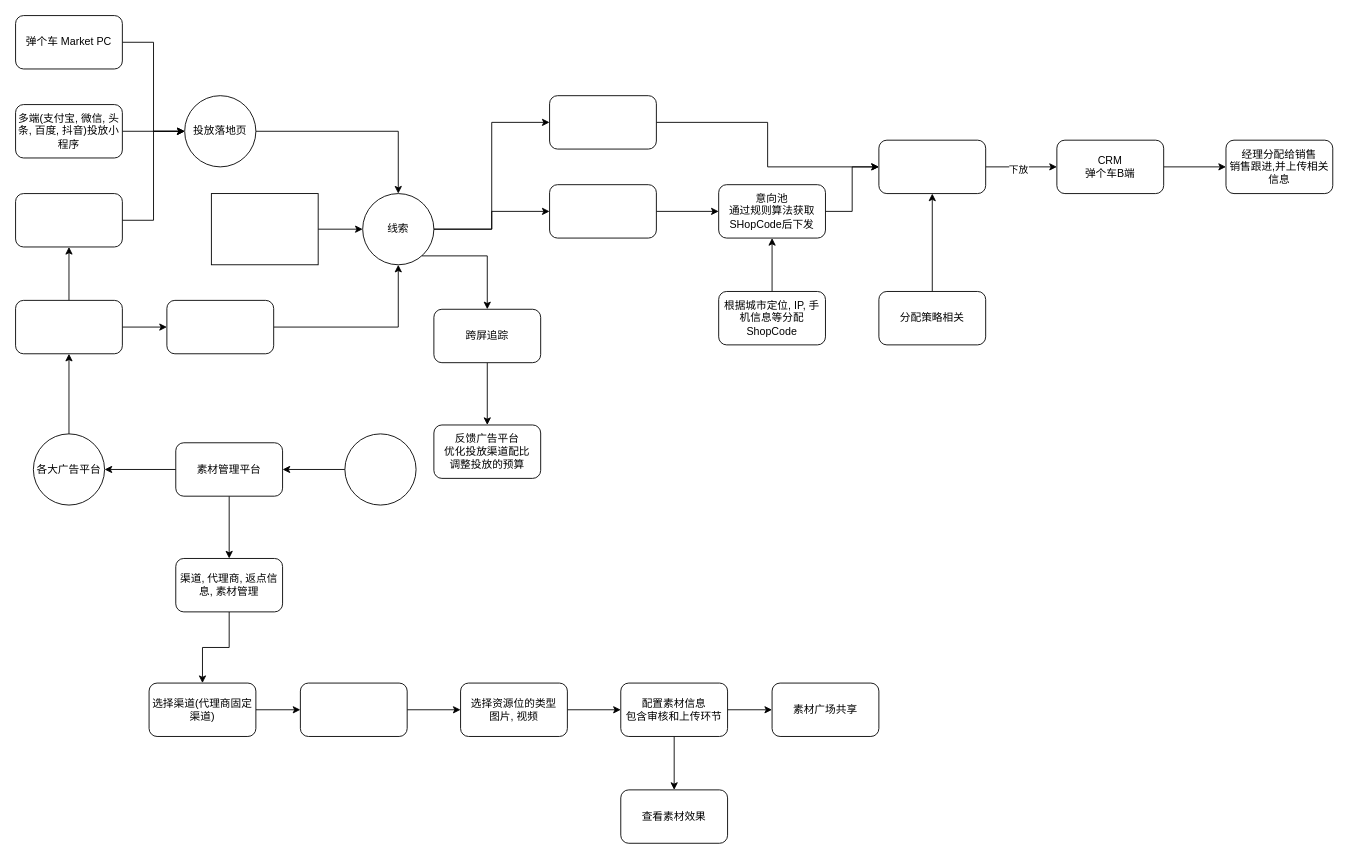
The diagram is 1348 pixels wide and 859 high, and some of its shapes have lost their labels. Here are the shapes that lost their labels. From the top down, the centre of each, then its label:
the point at 602,122: A类线索 携带ShopCode的线索
the point at 932,166: 线索中心
the point at 68,220: 乐高投放落地页
the point at 264,229: 部分有设备信息 用户信息 广告信息 回传URL SPM
the point at 602,211: B类线索 准线索, 不携带ShopCode
the point at 68,326: 广告投放
the point at 220,326: APP下载页面
the point at 380,469: 用户, 包含 代理商, 业务方, 设计, 采购, 法务等
the point at 353,709: 选择资源位
